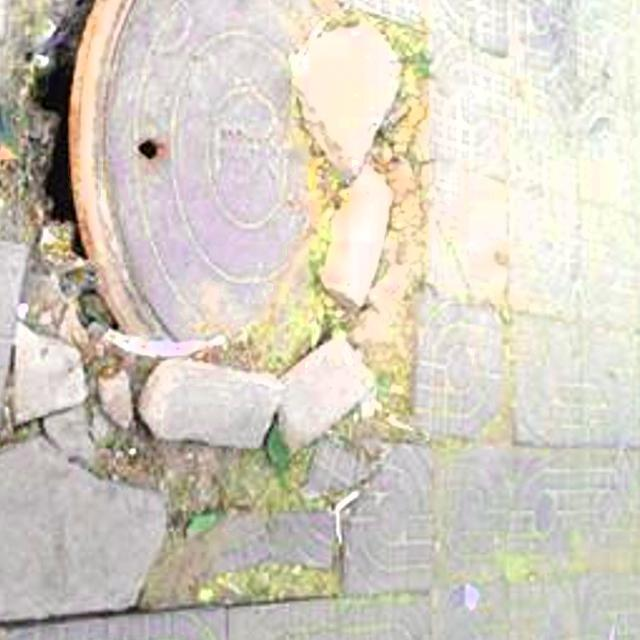circle: (0, 0, 437, 634)
